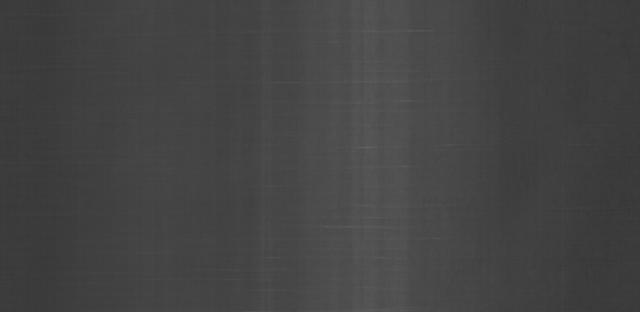waist_folding: (166, 63, 466, 296)
